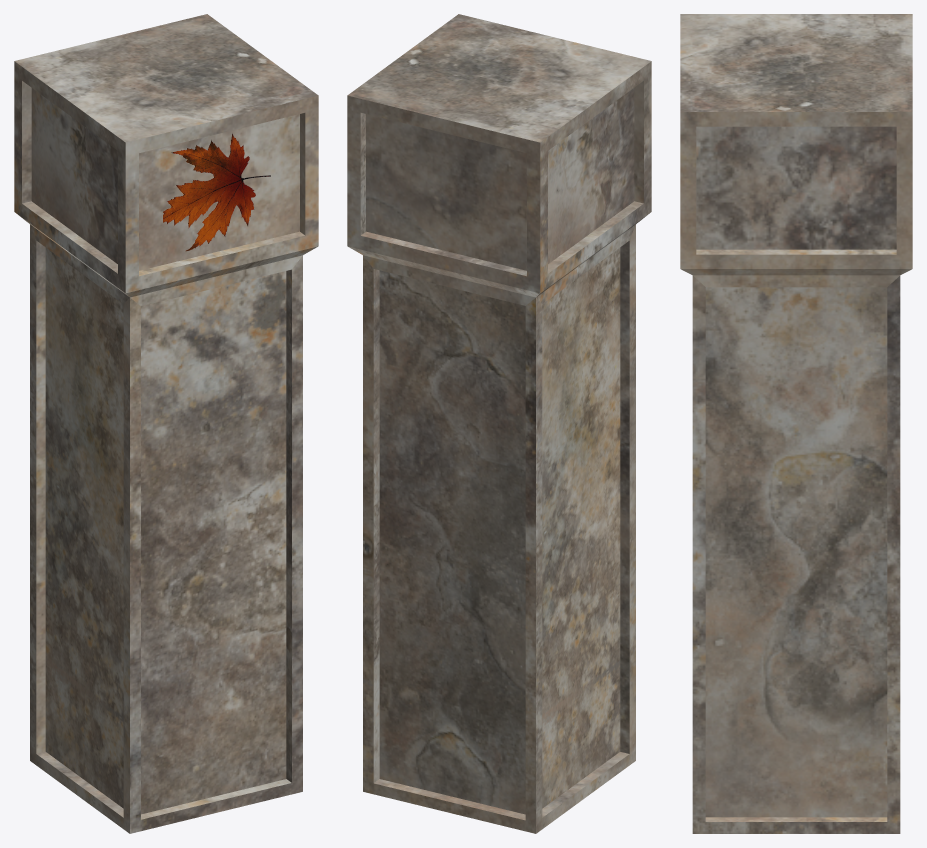
The model's file is tumba_pilar.fbx.
3 renders of one model, left to right at view 1: azimuth 30°, elevation 25°; view 2: azimuth 150°, elevation 25°; view 3: azimuth 270°, elevation 25°, orthographic. The views are drawn at different scales.
Visible parts, largest first — view 1: Tumba; view 2: Tumba; view 3: Tumba.
Boxes of the visible parts, box(x1,y1,x2,y2) form: Tumba: box(14, 14, 318, 833); Tumba: box(347, 14, 651, 833); Tumba: box(680, 14, 912, 833).
Bounding box in the file's own units: 95.65 × 331 × 95.65.
Materials: 2 (2 with a texture image).
